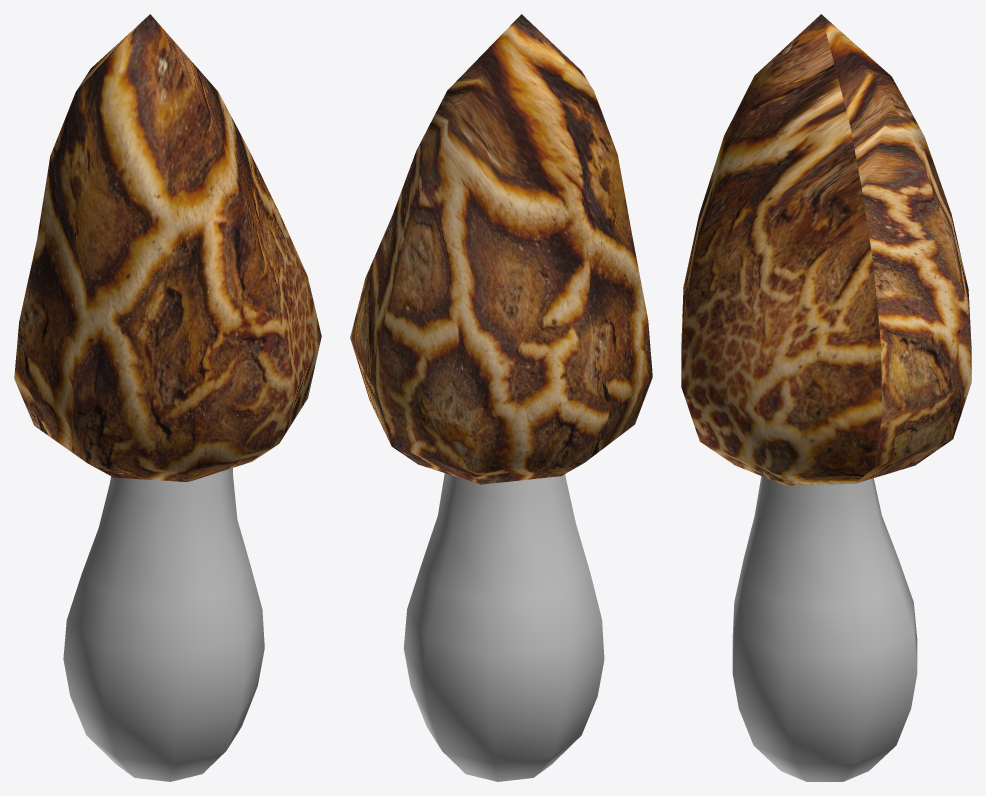
File: jamur moret.fbx
3 views of the same model, side by side, from view 1: azimuth 30°, elevation 25°; view 2: azimuth 150°, elevation 25°; view 3: azimuth 270°, elevation 25° (orthographic).
Visible parts, largest first — view 1: morel; view 2: morel; view 3: morel.
Boxes of the visible parts, box(x1,y1,x2,y2) form: morel: box(14, 14, 321, 781); morel: box(350, 14, 652, 781); morel: box(681, 14, 971, 781).
Bounding box in the file's own units: 38.79 × 113 × 39.64.
